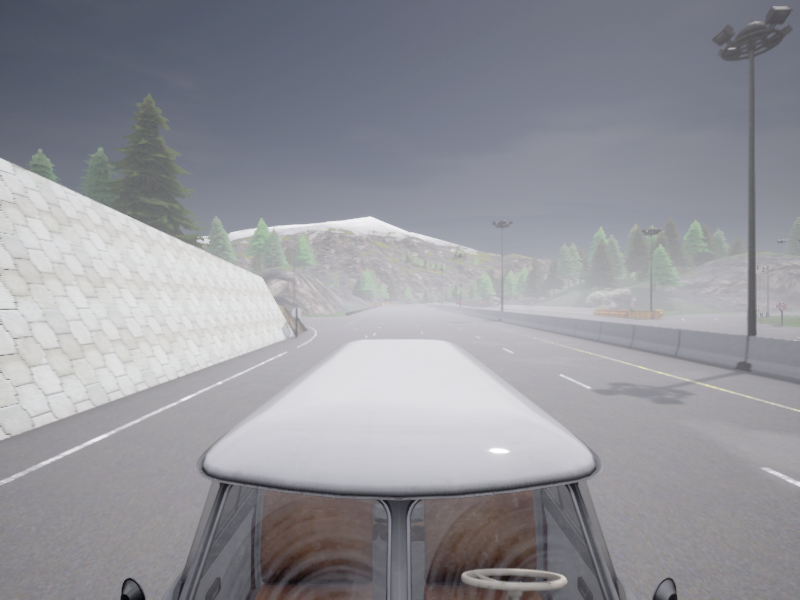vehicle: (120, 339, 677, 599), (456, 298, 463, 304)
